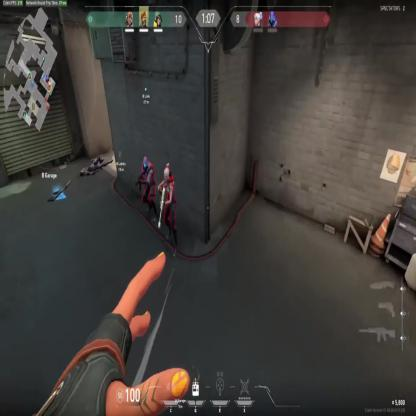enemy: (158, 163, 178, 259), (136, 156, 158, 222)
enemy_head: (163, 164, 170, 182), (142, 156, 148, 171)
